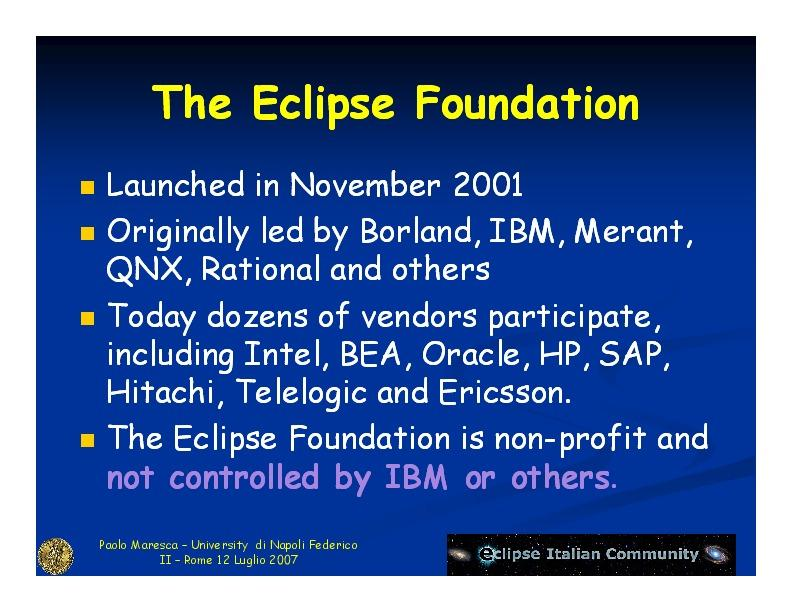paragraph: (71, 159, 726, 507)
subtitle: (88, 525, 748, 582)
title: (142, 71, 648, 135)
